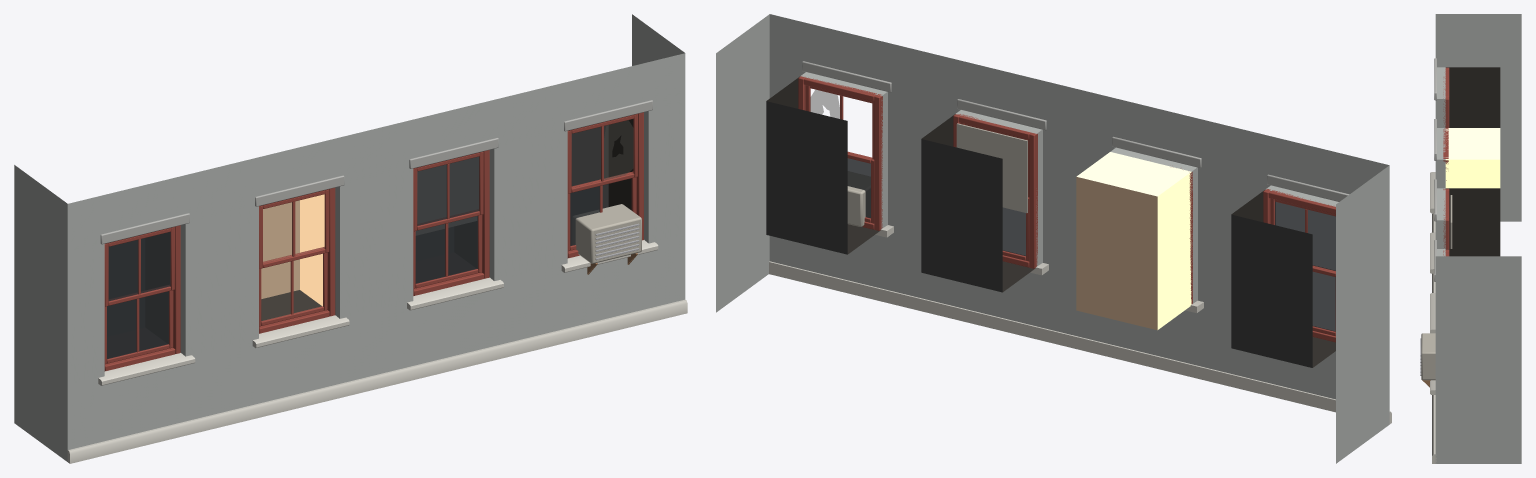
File: upper_8e.glb
The picture shows the model from 3 angles, left to right: view 1: azimuth 30°, elevation 25°; view 2: azimuth 150°, elevation 25°; view 3: azimuth 270°, elevation 25°; orthographic projection. The views are drawn at different scales.
Parts seen in each view (by area): view 1: upper_8e; view 2: upper_8e; view 3: upper_8e.
Boxes of the visible parts, bbox=[...] form: upper_8e: bbox=[14, 14, 687, 463]; upper_8e: bbox=[716, 14, 1391, 463]; upper_8e: bbox=[1420, 14, 1521, 463].
Bounding box in the file's own units: 8 × 3.2 × 1.42.
